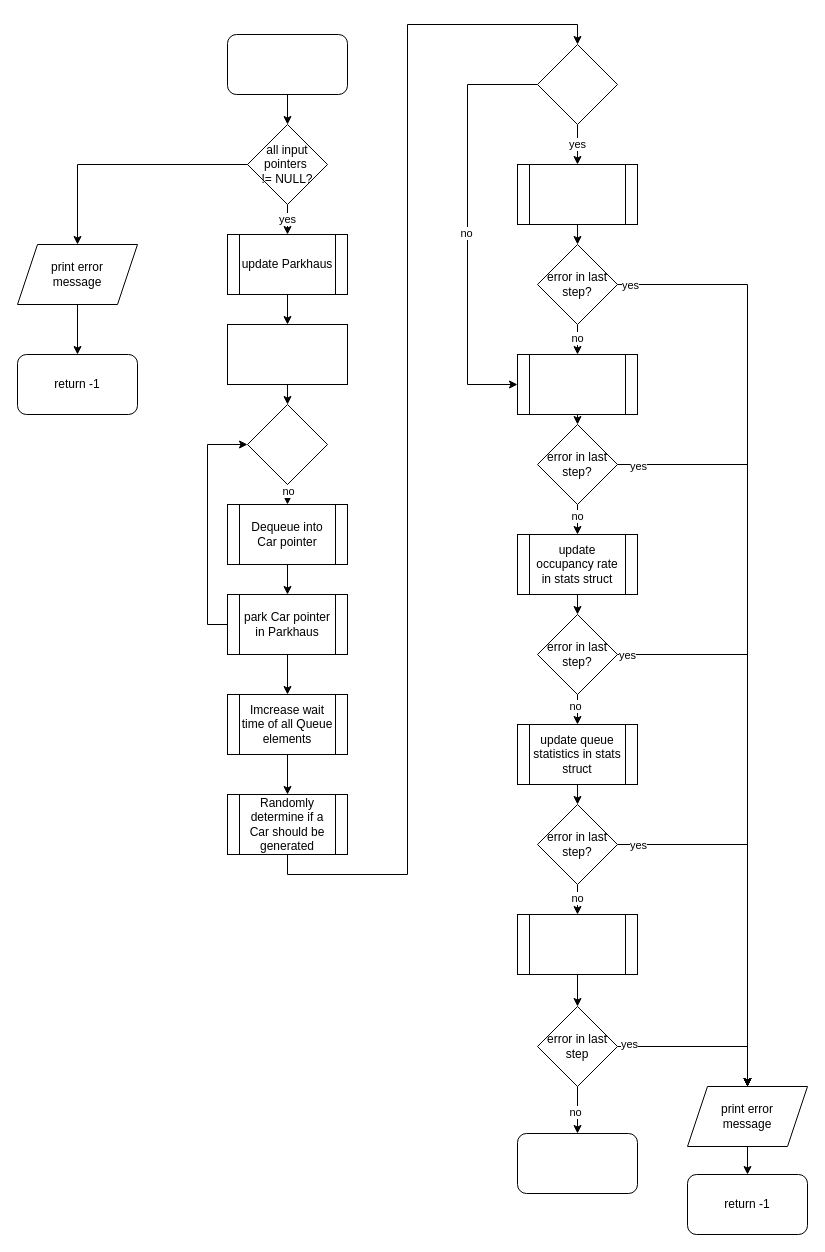
The diagram is 825 pixels wide and 1252 high, and some of its shapes have lost their labels. The centre of each missing label's shape, as x and y in pixels:
"calculate current stress score" belongs at point (577, 944).
"Call function run_timestep()" belongs at point (287, 64).
"Clear stats struct" belongs at point (577, 384).
"create new Car pointer" belongs at point (287, 354).
"input new car" belongs at point (577, 194).
"Parkhaus ful l OR Queue empty?" belongs at point (287, 444).
"return 0" belongs at point (577, 1163).
"should a new Car be generated?" belongs at point (577, 84).
